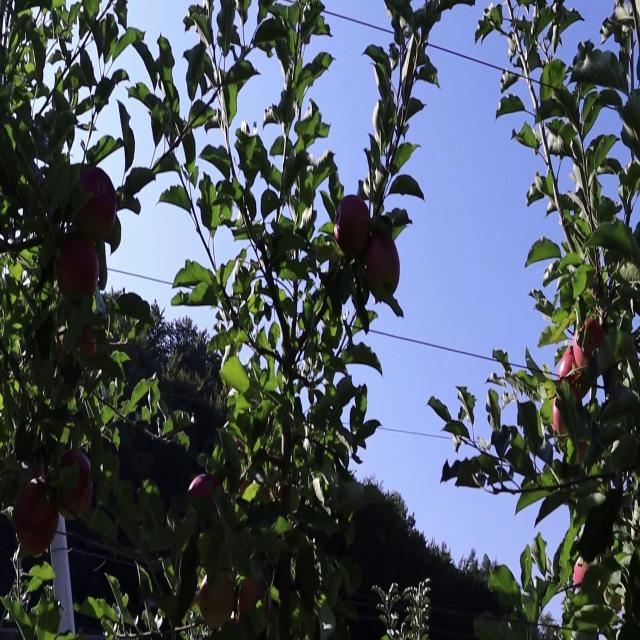apple: (12, 476, 60, 560), (80, 163, 118, 242), (56, 241, 99, 304), (364, 234, 401, 306), (336, 191, 372, 261), (60, 447, 94, 519), (200, 575, 236, 633), (188, 476, 223, 514), (240, 575, 261, 619), (584, 319, 607, 356), (572, 334, 591, 372), (556, 348, 579, 379), (552, 398, 568, 437), (56, 334, 72, 370), (80, 334, 98, 361), (576, 561, 590, 588), (576, 440, 589, 466), (236, 433, 246, 462)
